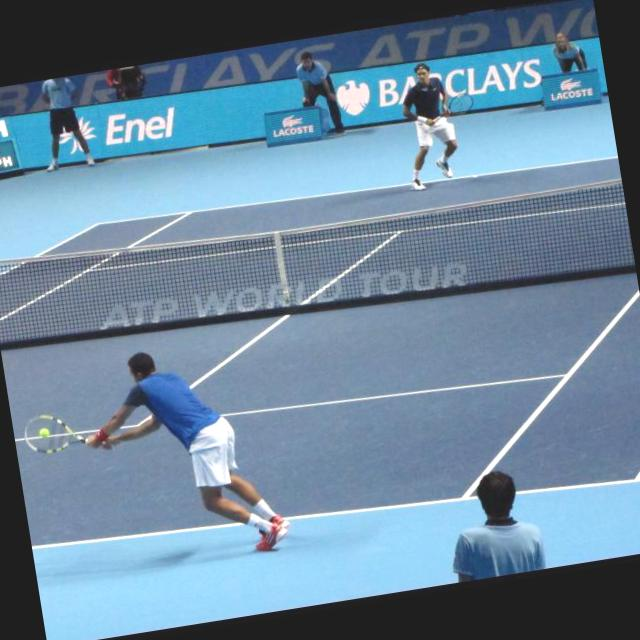tennis-ball: (39, 428, 50, 438)
